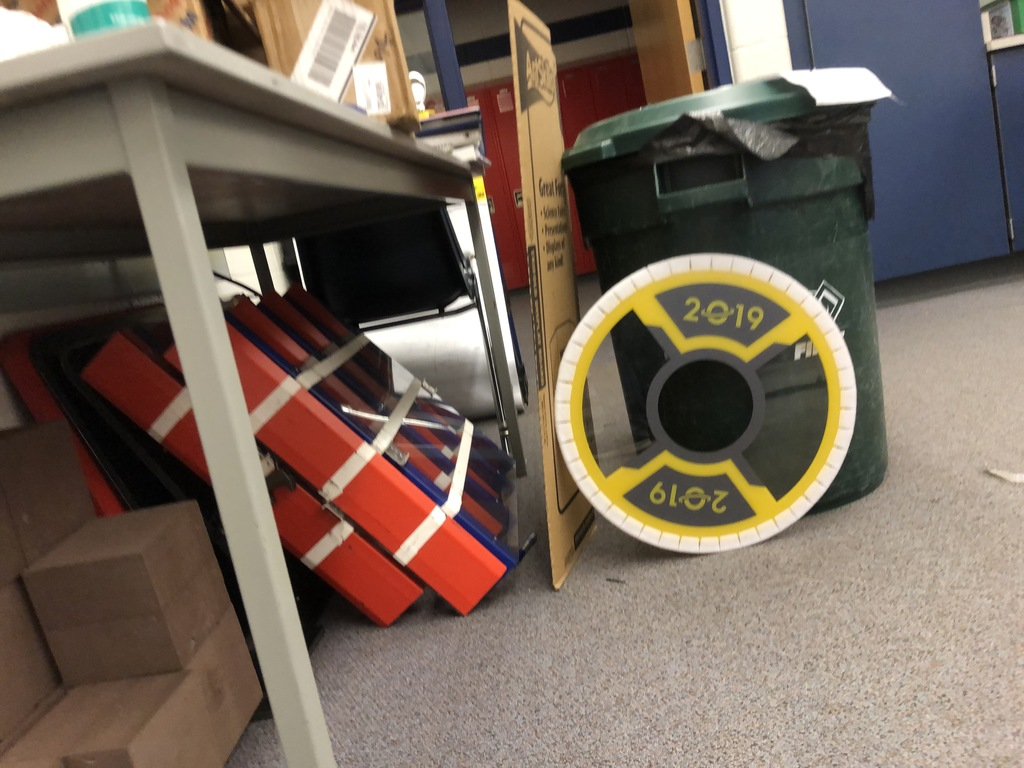hatch_panel: (550, 242, 869, 571)
